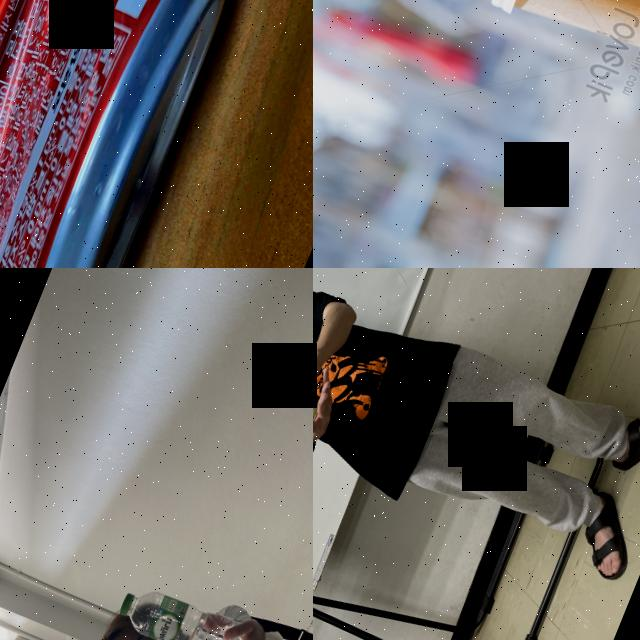bottle: (110, 573, 255, 640)
cup: (452, 0, 640, 118)
